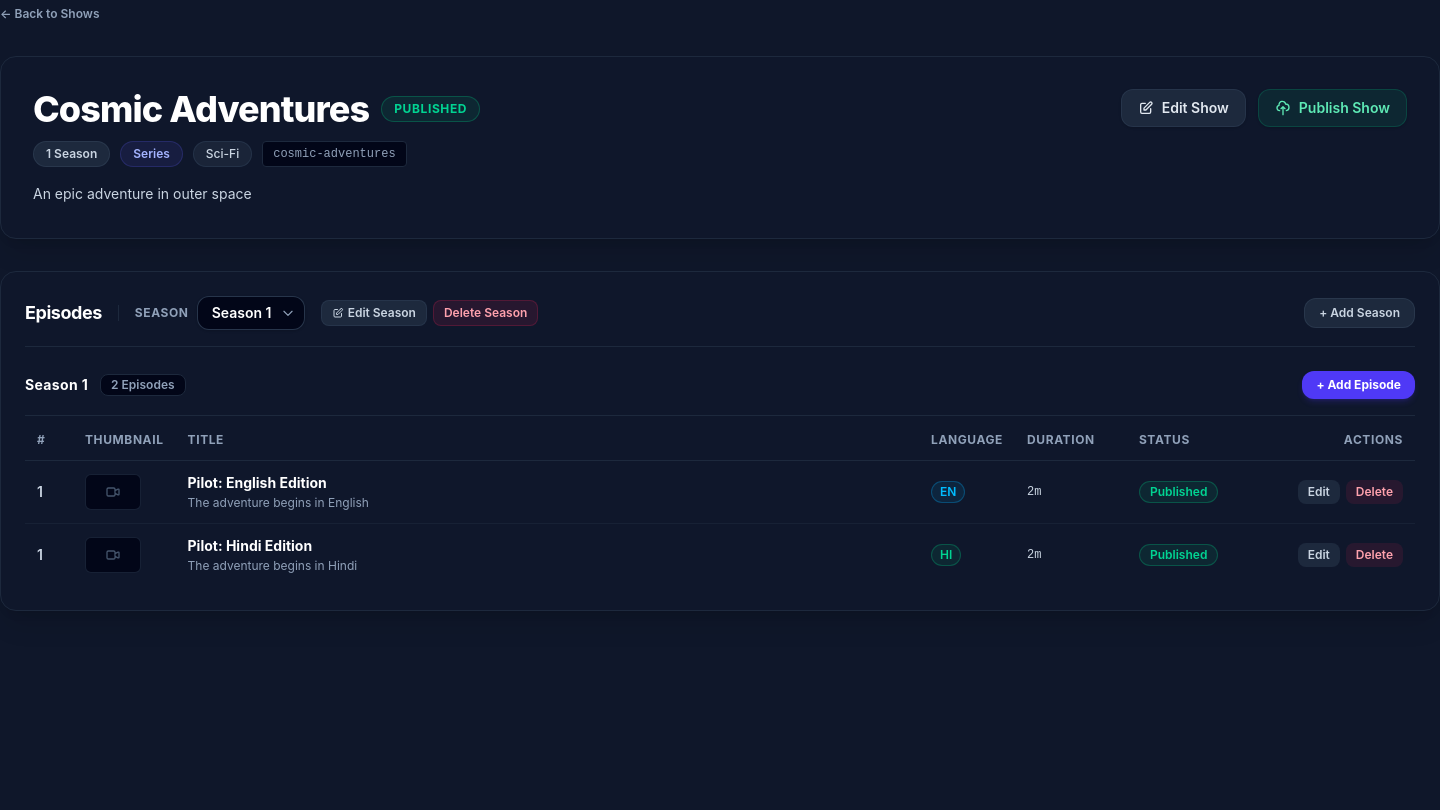
Test: CMS Episode Management › edits an episode with PATCH
Click the button with test id "edit-episode-ep-101-en" at (1319, 492), box [1298,480,1340,504]
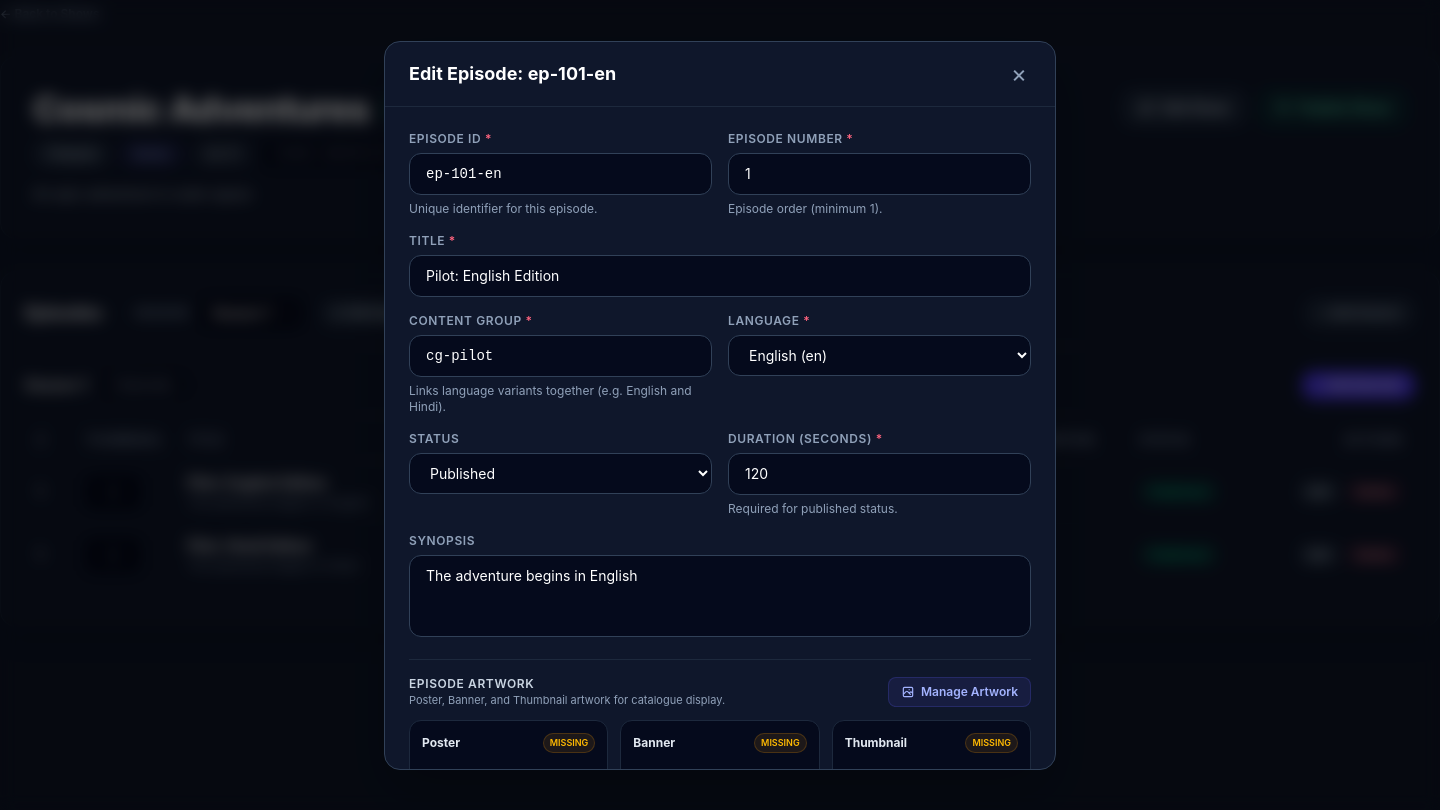
Expected: the field labelled "Title *" holds "Pilot: English Edition"
Replace the text in the field labelled "Title *" with "Pilot: English (Remastered)" at (720, 276), box [409,254,1031,296]
(page scrolled)
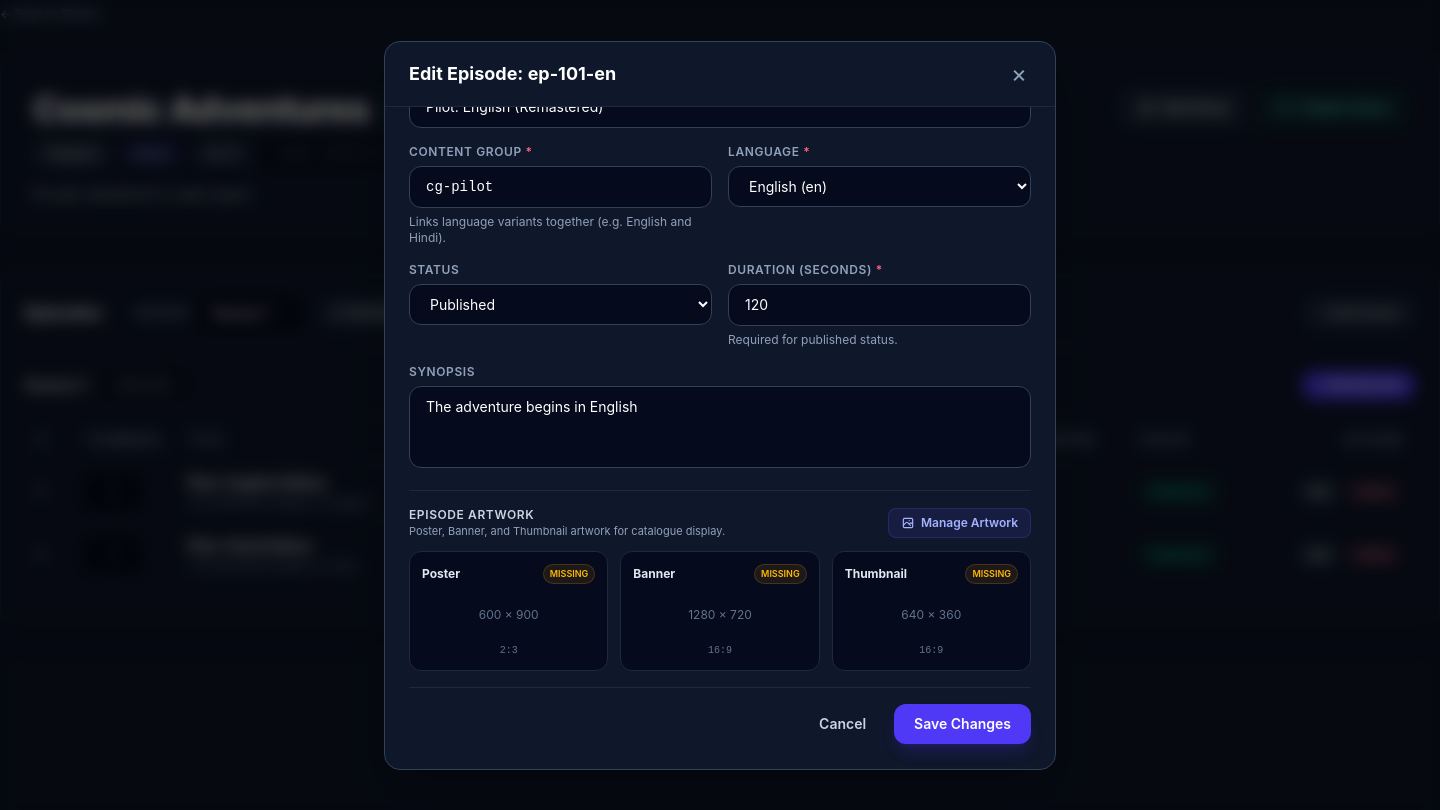
Click the button with test id "save-episode-btn" at (963, 724), box [894,704,1031,744]
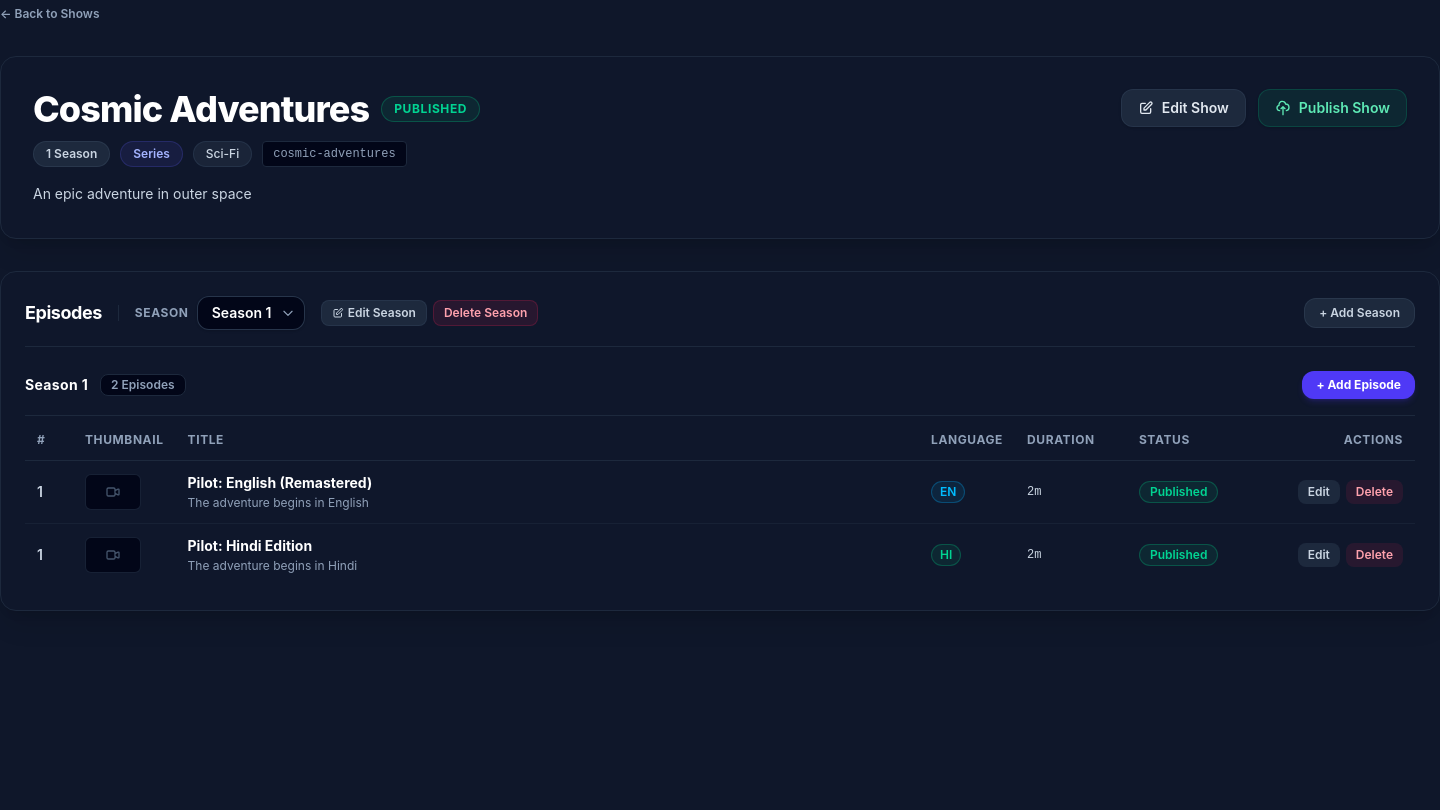
Expected: the text "Pilot: English (Remastered)" is shown, [188,474,372,491]
